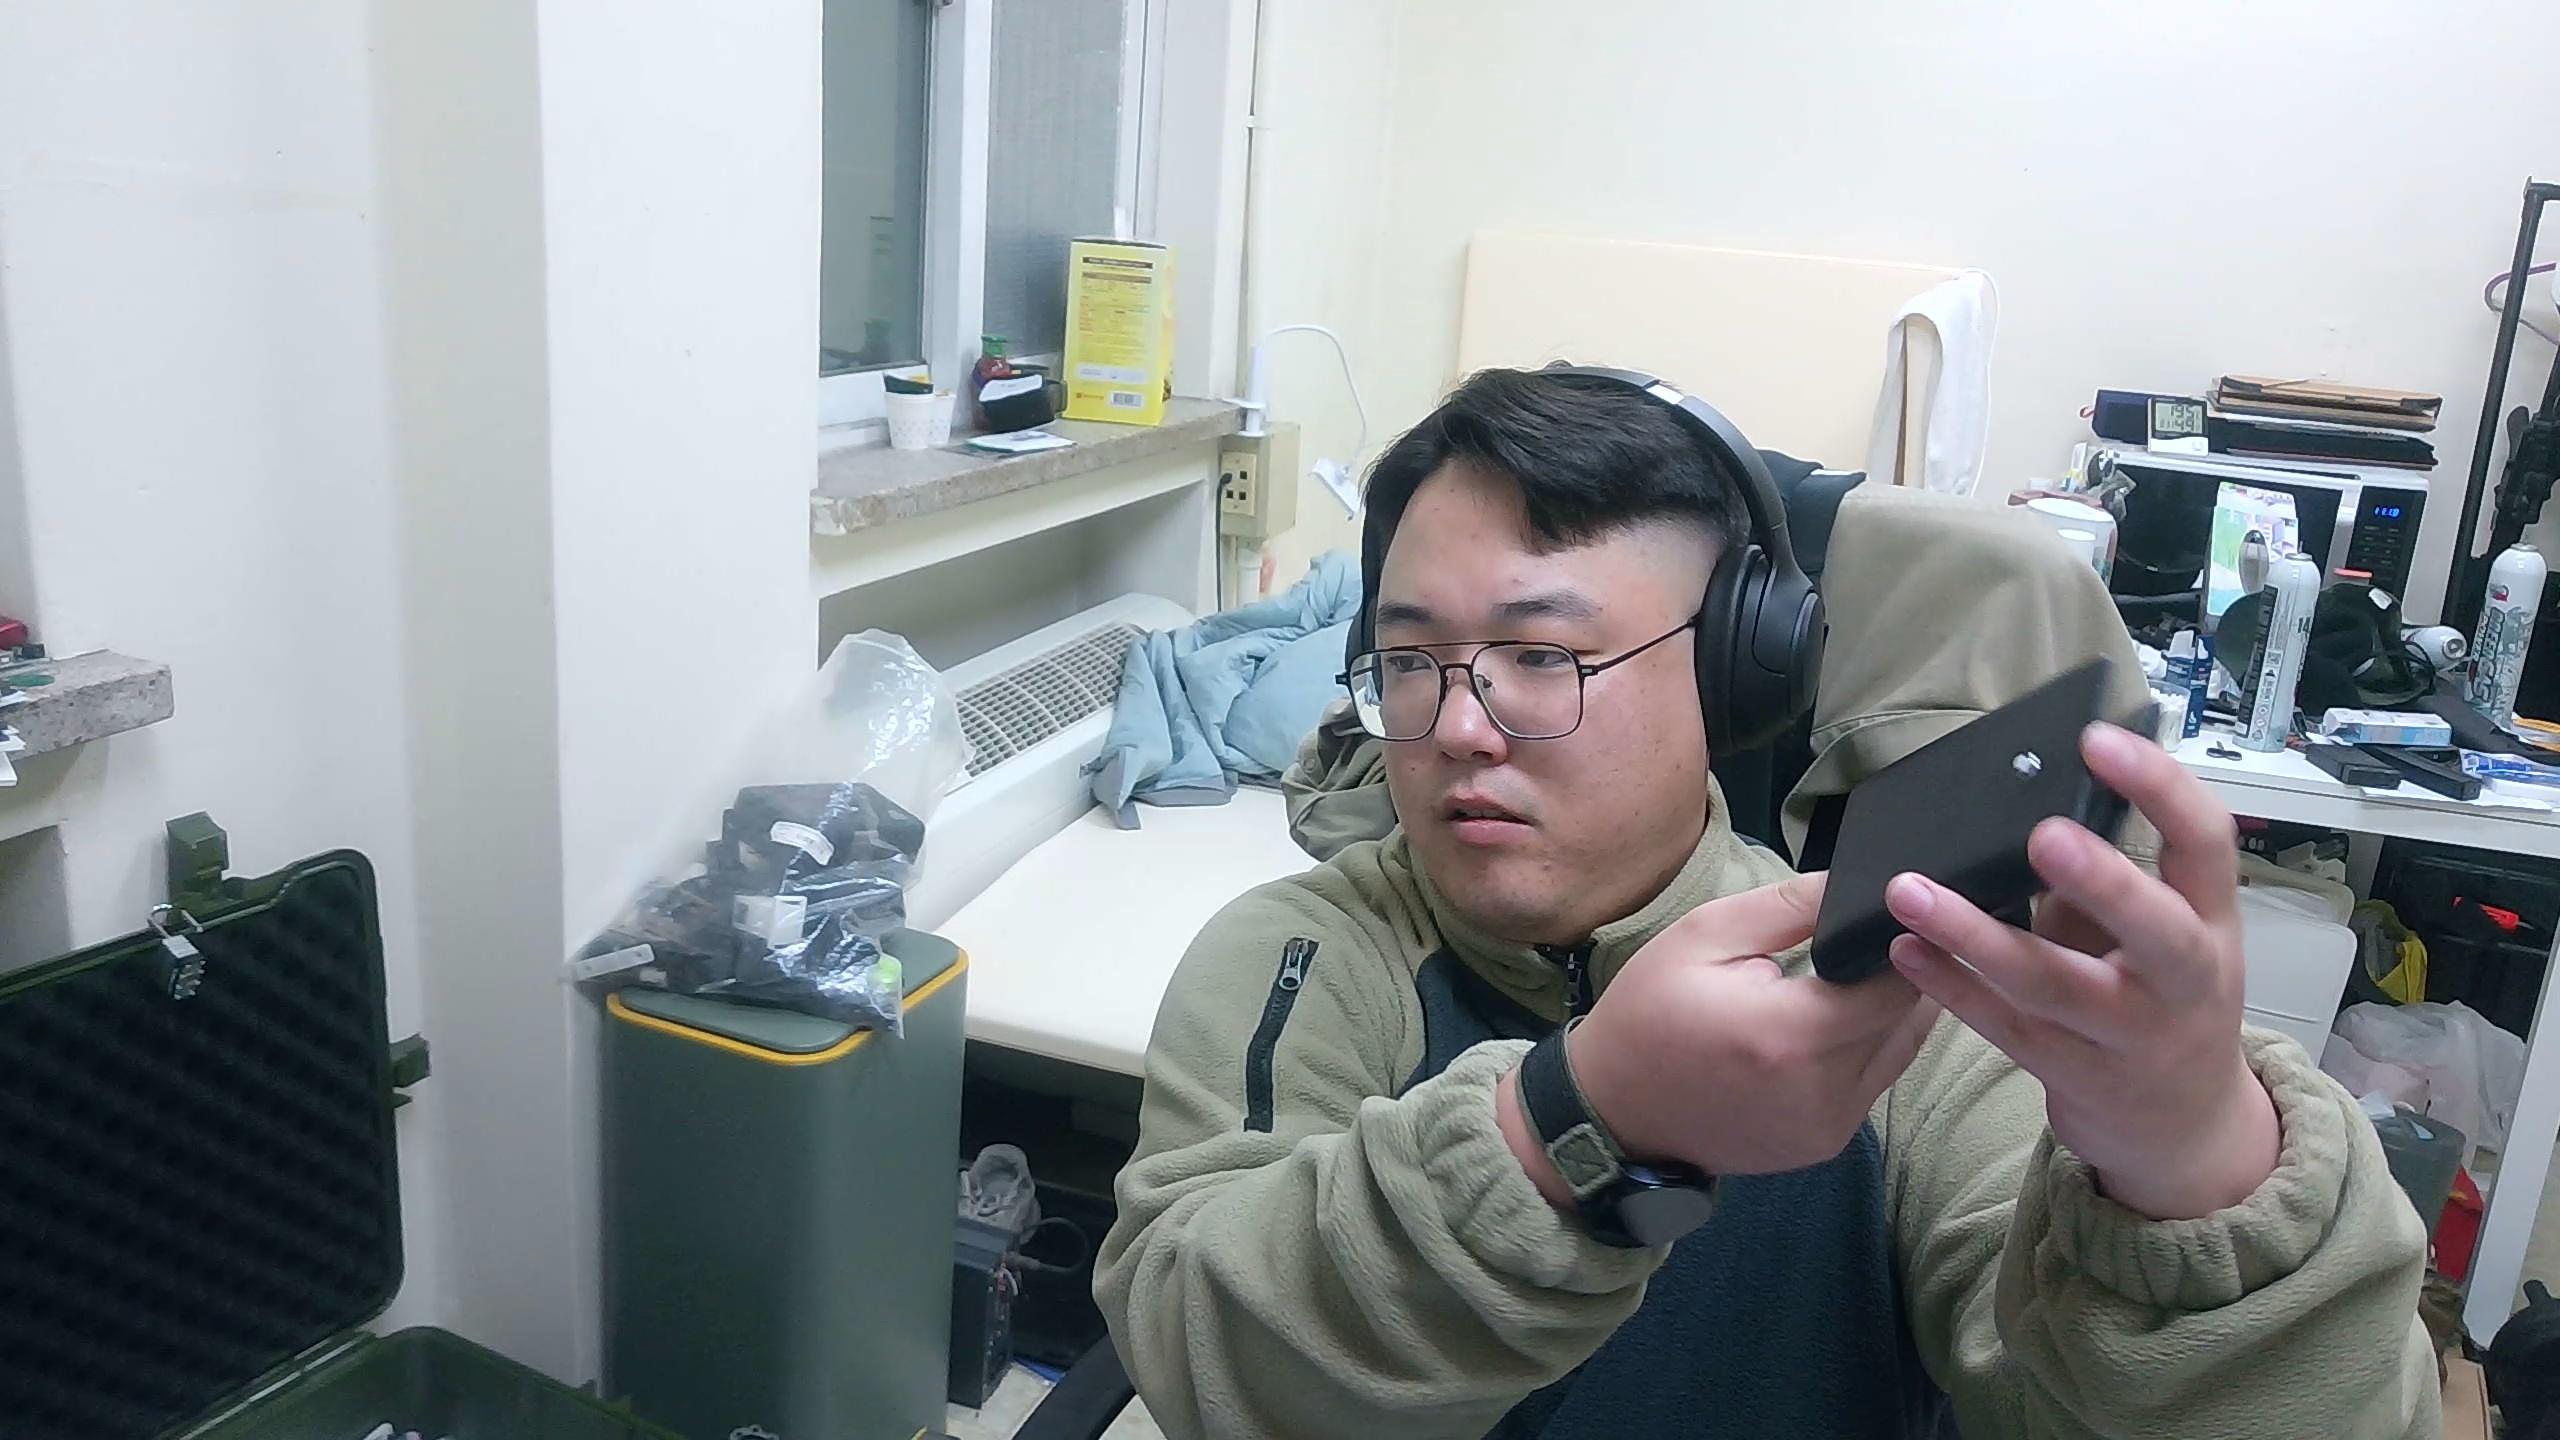Wallet: (1809, 654, 2138, 988)
